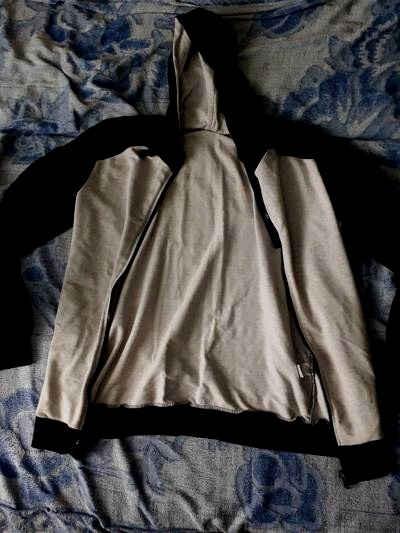Hoodie: (10, 3, 393, 481)
